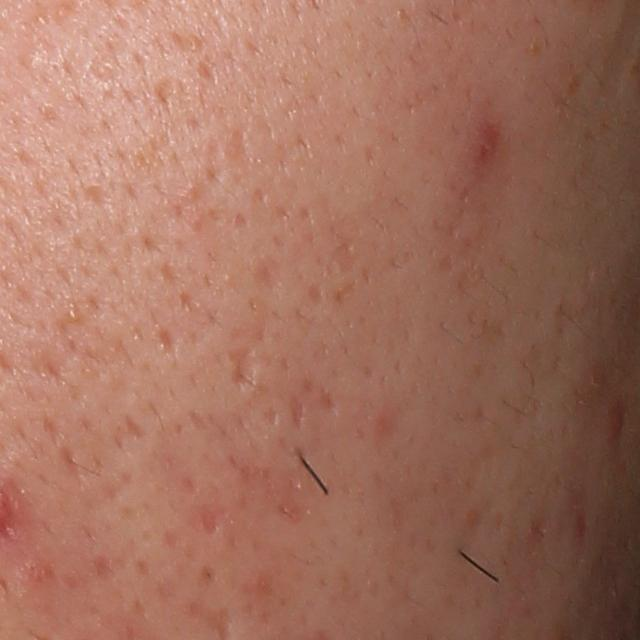atrophic_scar: (226, 343, 260, 388), (252, 256, 290, 296), (325, 241, 359, 278), (224, 124, 252, 161), (156, 327, 182, 365), (310, 382, 338, 413), (289, 393, 309, 436), (60, 441, 83, 478), (156, 80, 179, 109), (84, 186, 108, 213), (306, 280, 326, 308), (128, 412, 146, 442)
papule: (463, 123, 502, 173), (604, 399, 628, 437)
